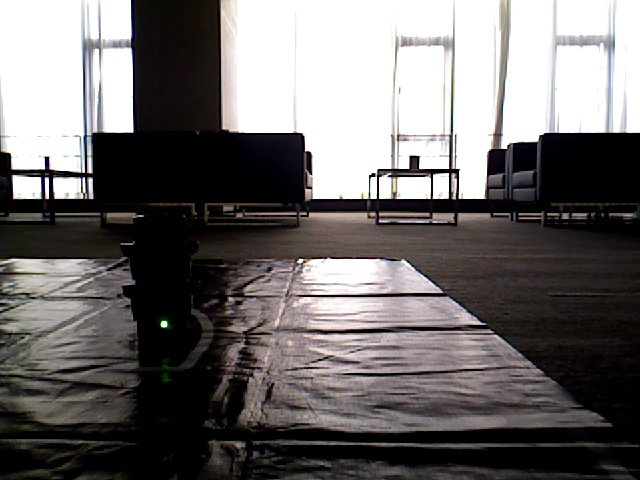green: (145, 219, 193, 346)
